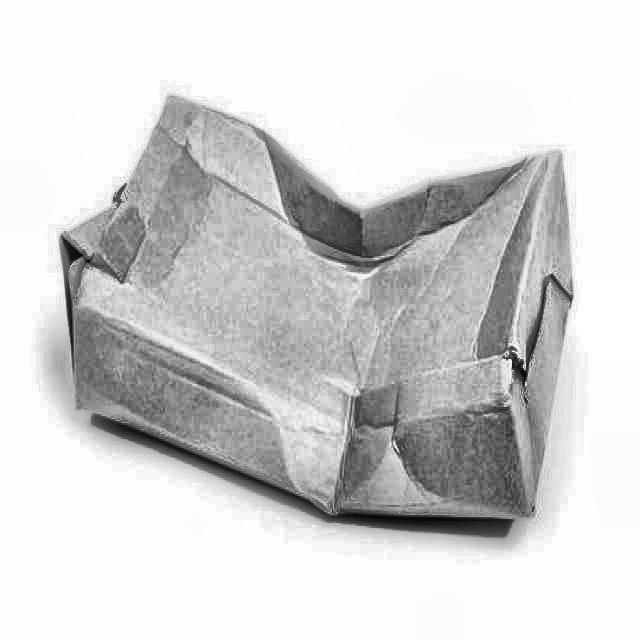box: (39, 84, 585, 539)
hole: (55, 230, 87, 276)
